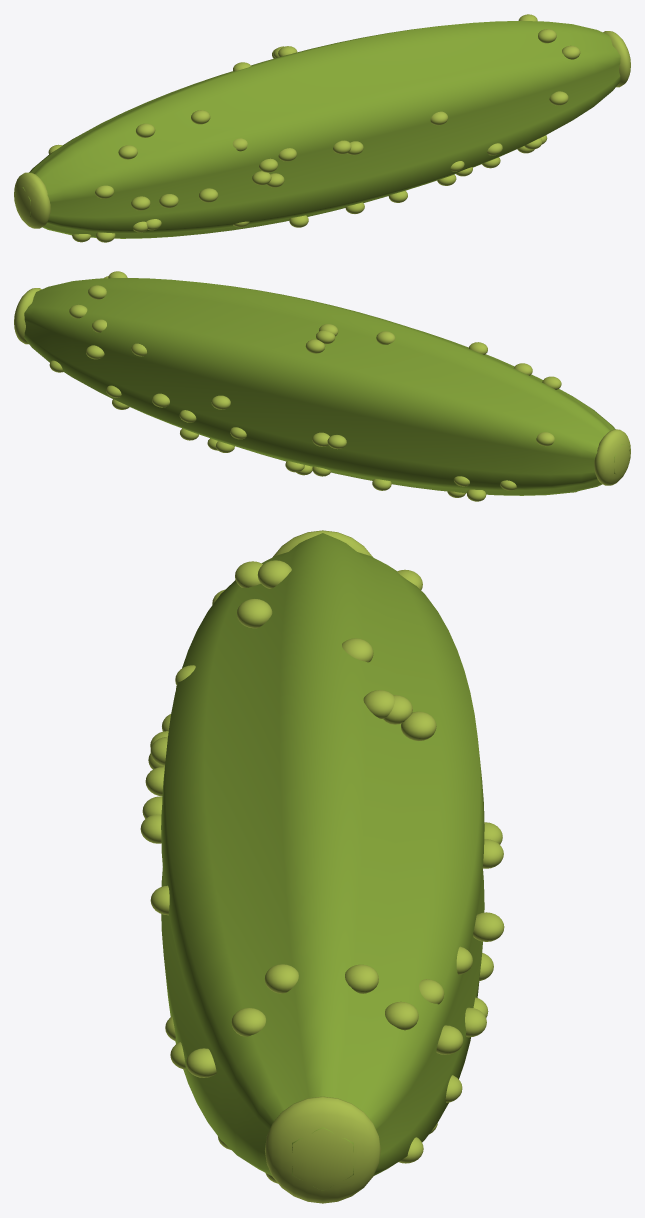
File: pickle.glb
3 renders of one model, top to bottom at view 1: azimuth 30°, elevation 25°; view 2: azimuth 150°, elevation 25°; view 3: azimuth 270°, elevation 25°, orthographic. The views are drawn at different scales.
Visible parts, largest first — view 1: Ridged pickle skin, Batch Pickle golden ridges; view 2: Ridged pickle skin, Batch Pickle golden ridges; view 3: Ridged pickle skin, Batch Pickle golden ridges.
Part boxes in pixels (x1,y1,x2,y2): Ridged pickle skin: [15, 21, 620, 238]; Batch Pickle golden ridges: [14, 14, 630, 242]; Ridged pickle skin: [24, 278, 629, 495]; Batch Pickle golden ridges: [14, 271, 630, 501]; Ridged pickle skin: [161, 533, 484, 1190]; Batch Pickle golden ridges: [140, 530, 504, 1203].
Bounding box in the file's own units: 0.624 × 0.1628 × 0.1629.
